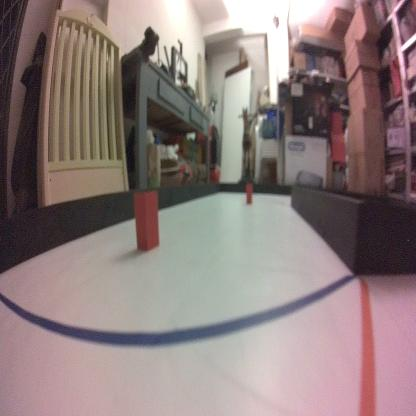red: (132, 189, 160, 251), (246, 181, 252, 206)
